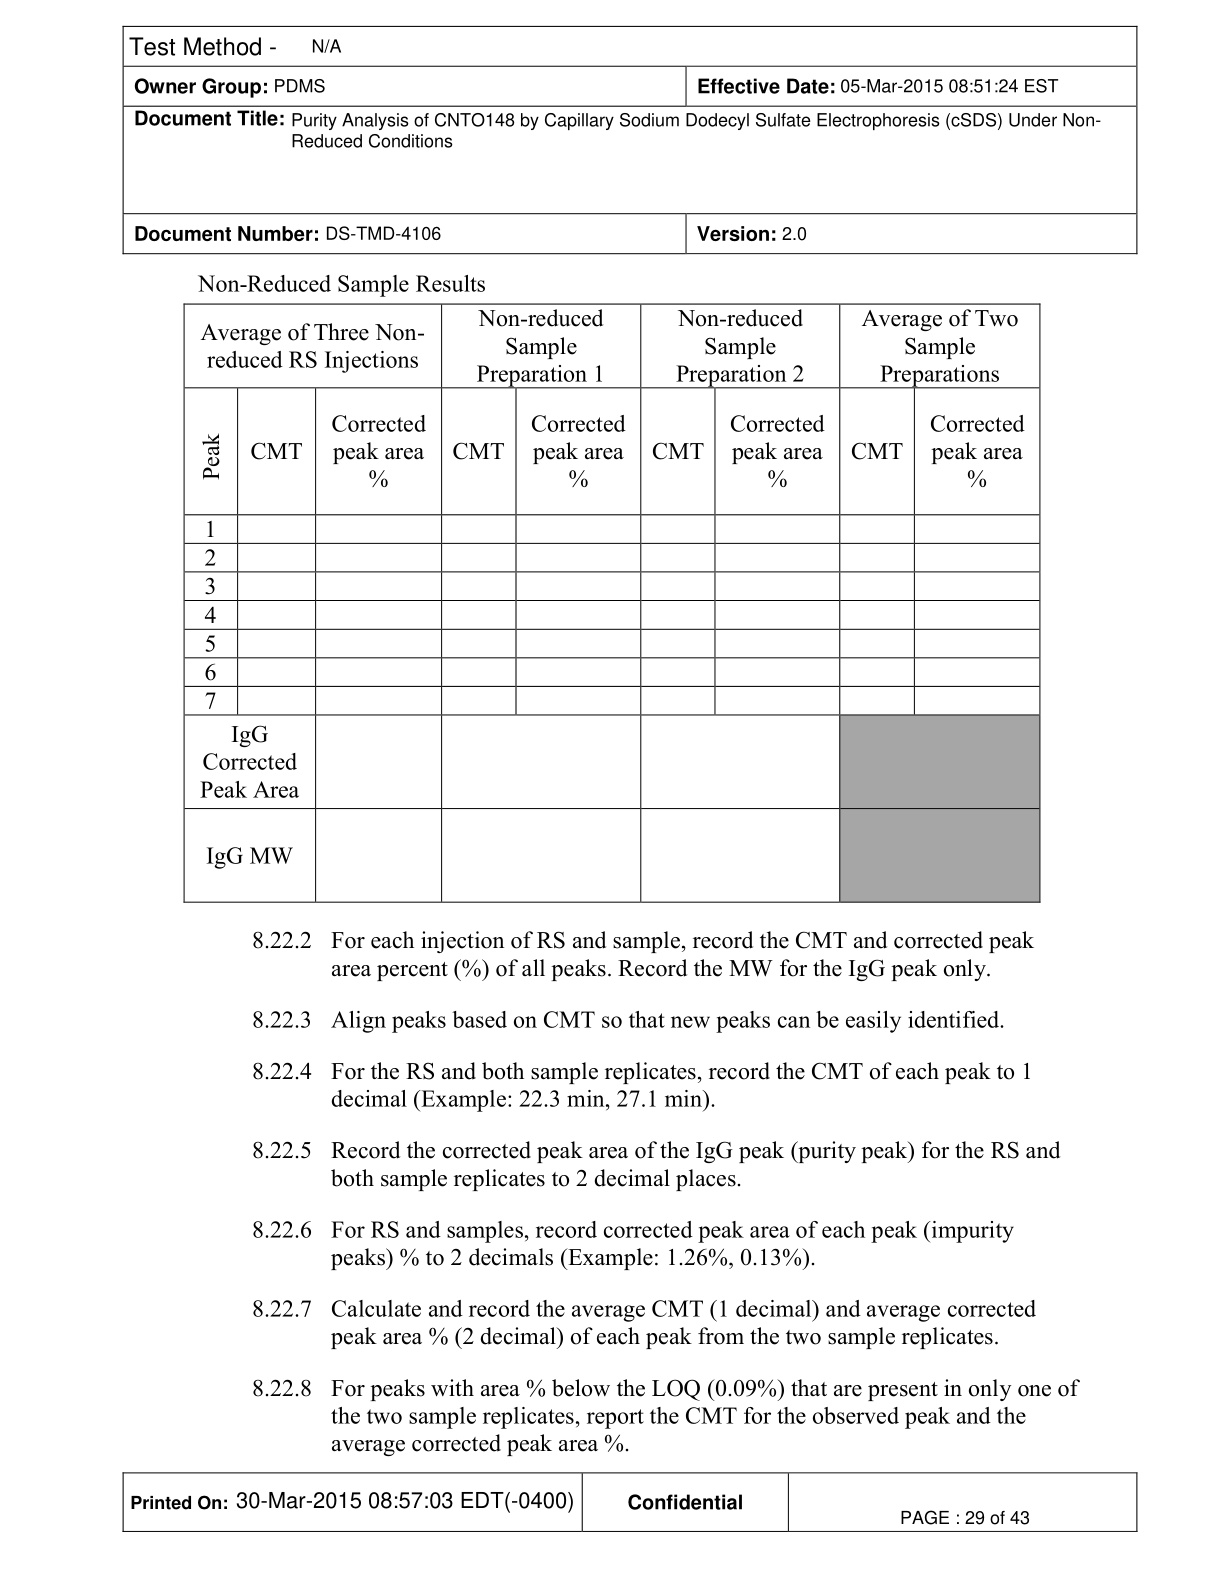full_lined: (121, 1471, 1138, 1531)
merged_cells: (181, 302, 1043, 905), (121, 24, 1139, 255)
